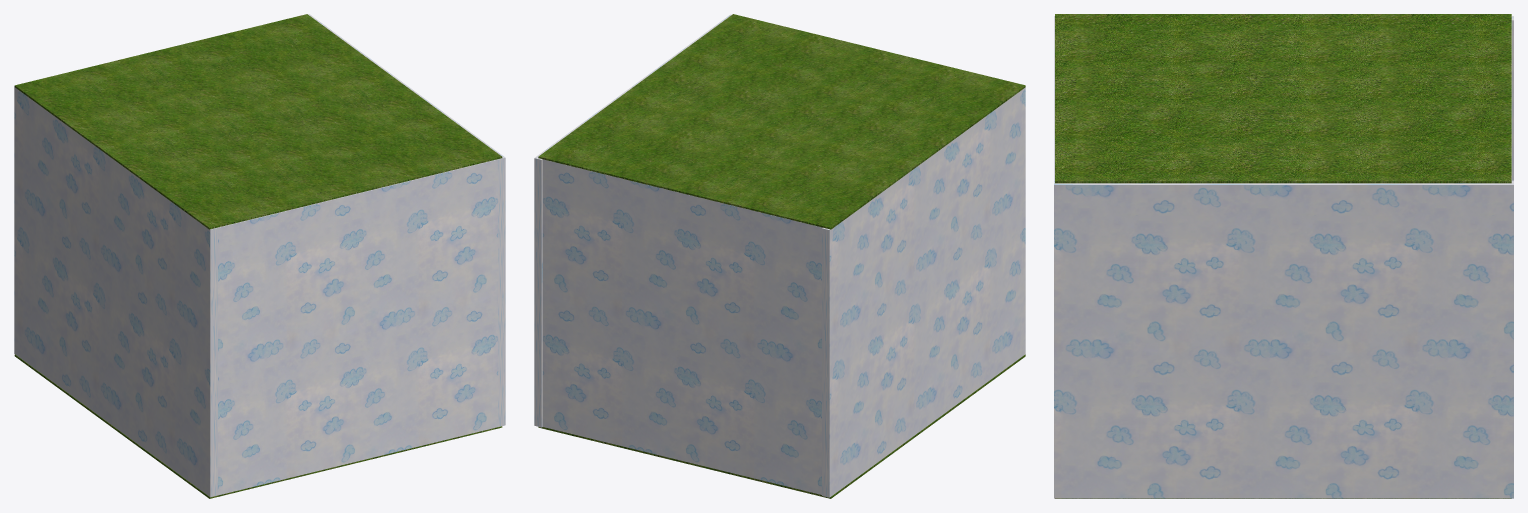
Rendered from level2TheStairs.fbx.
3 renders of one model, left to right at view 1: azimuth 30°, elevation 25°; view 2: azimuth 150°, elevation 25°; view 3: azimuth 270°, elevation 25°, orthographic. The views are drawn at different scales.
Visible parts, largest first — view 1: skyWall, ceiling, floor; view 2: skyWall, ceiling, floor; view 3: skyWall, ceiling.
Part boxes in pixels (left/top/right/bottom): skyWall: left=14, top=14, right=505, bottom=497; ceiling: left=14, top=14, right=502, bottom=229; floor: left=14, top=354, right=502, bottom=498; skyWall: left=534, top=14, right=1025, bottom=497; ceiling: left=538, top=14, right=1025, bottom=229; floor: left=538, top=354, right=1025, bottom=498; skyWall: left=1054, top=16, right=1513, bottom=498; ceiling: left=1055, top=14, right=1511, bottom=183.
Bounding box in the file's own units: 2880 × 2522 × 3310.
